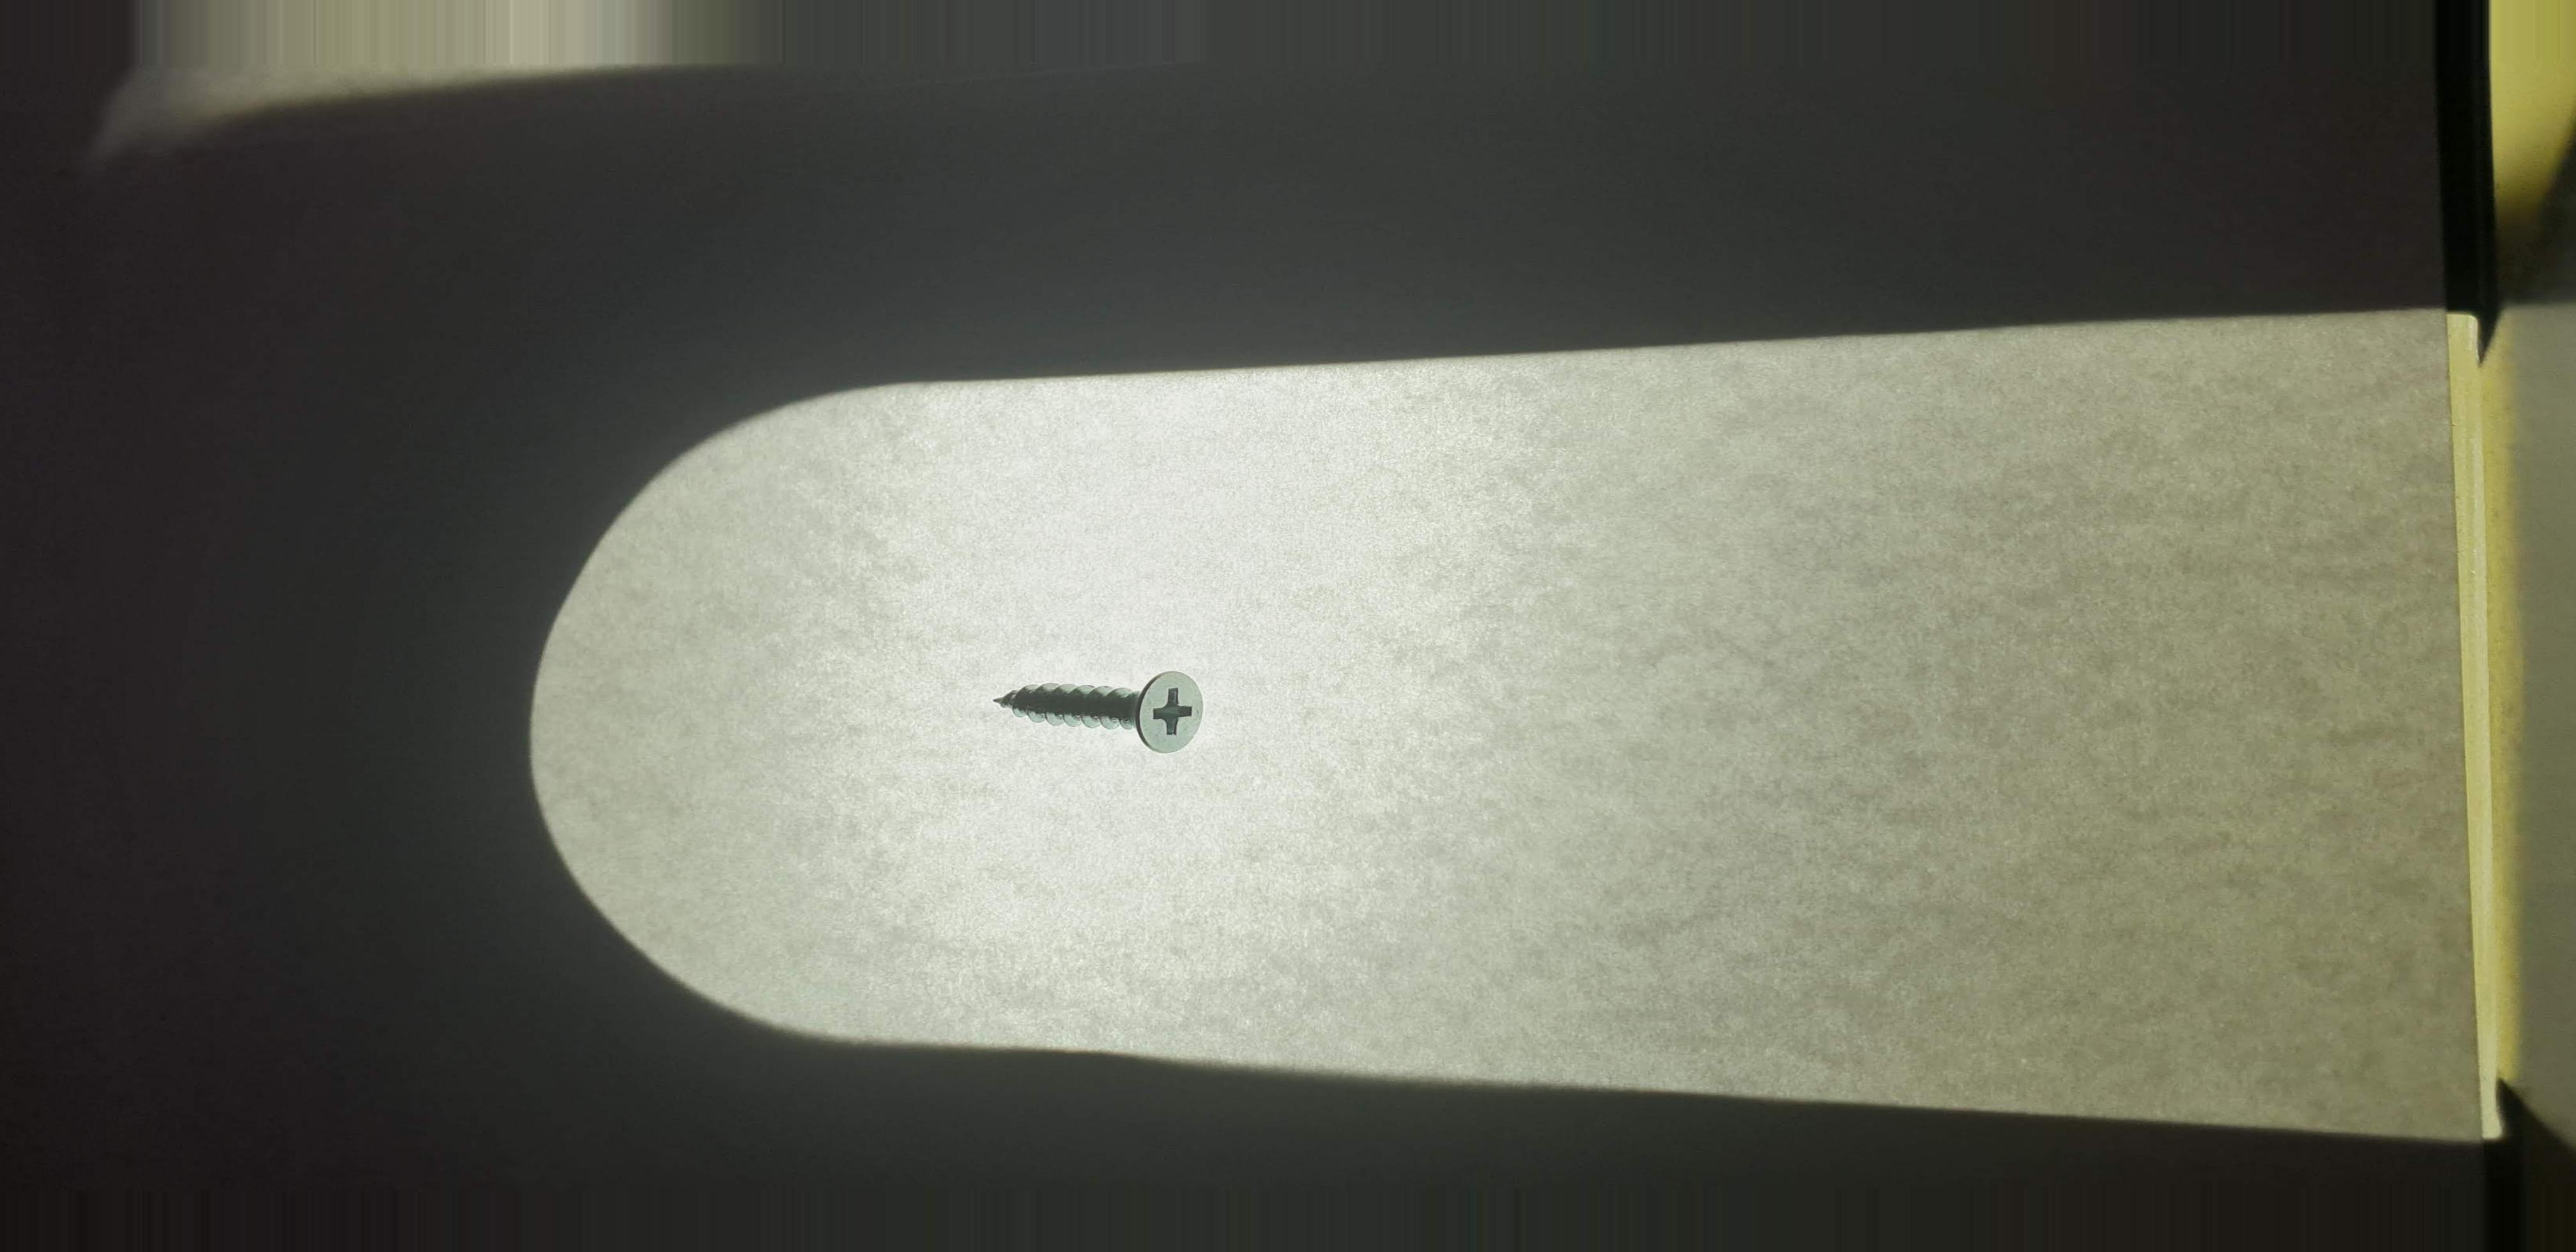S003: (976, 642, 1240, 782)
